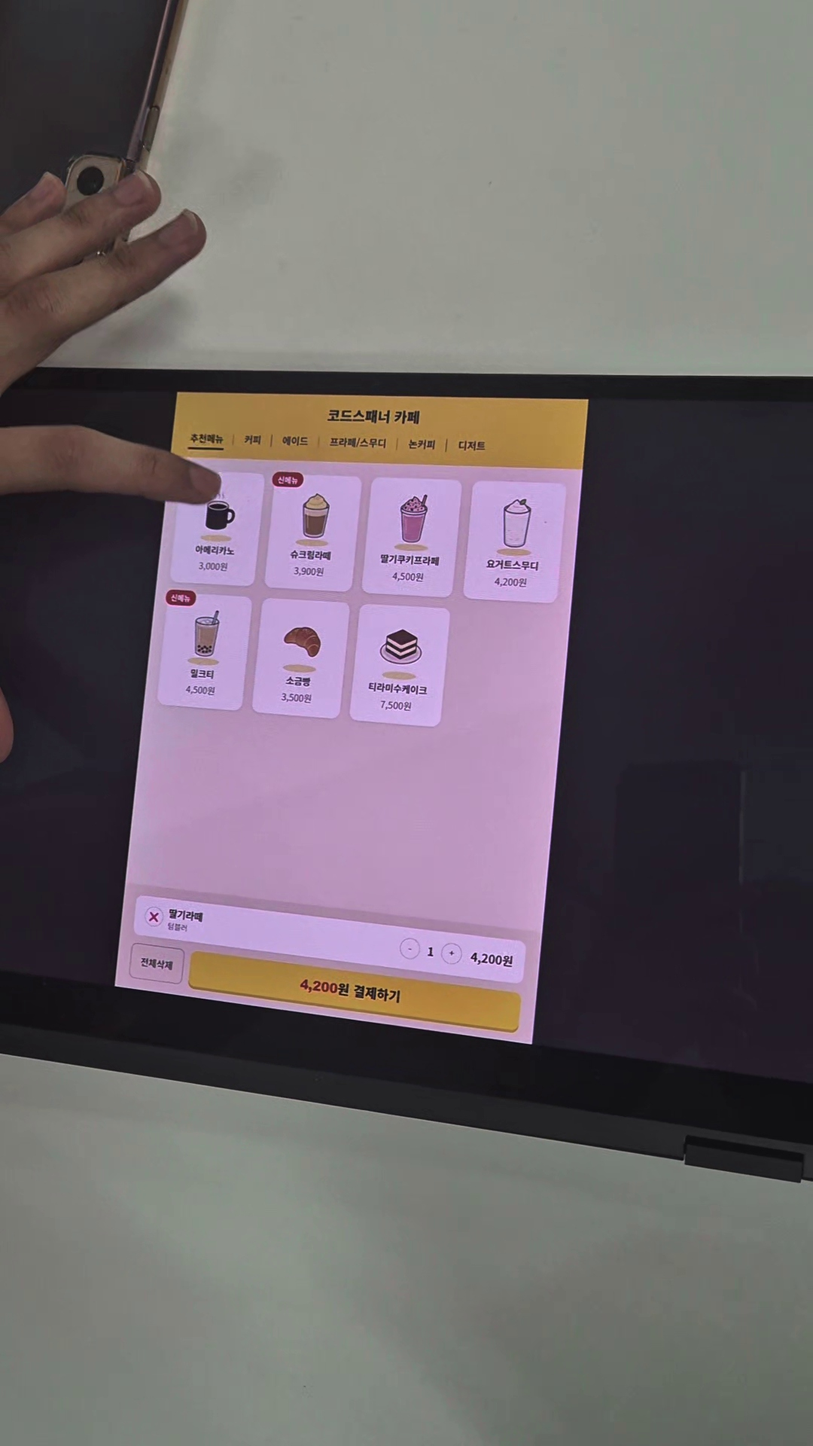action_button: (187, 948, 521, 1035), (129, 942, 184, 984)
cart_item: (132, 893, 526, 986)
category_tab: (329, 436, 387, 450), (189, 433, 223, 446), (406, 438, 436, 451), (455, 440, 487, 452), (282, 435, 310, 448), (243, 433, 263, 446)
menu_back: (462, 480, 566, 604), (361, 476, 464, 598), (349, 604, 451, 726), (252, 597, 351, 718), (156, 591, 253, 712), (264, 473, 362, 591), (170, 471, 265, 587)
menu_name: (368, 681, 427, 696), (380, 553, 441, 567), (487, 557, 540, 572), (167, 908, 204, 925), (195, 543, 235, 557), (290, 549, 332, 562), (285, 675, 313, 688)
menu_price: (470, 949, 516, 970), (293, 565, 326, 578), (185, 683, 218, 696), (378, 700, 412, 712), (494, 576, 528, 588), (391, 570, 424, 582), (198, 560, 231, 572), (280, 691, 313, 703)
